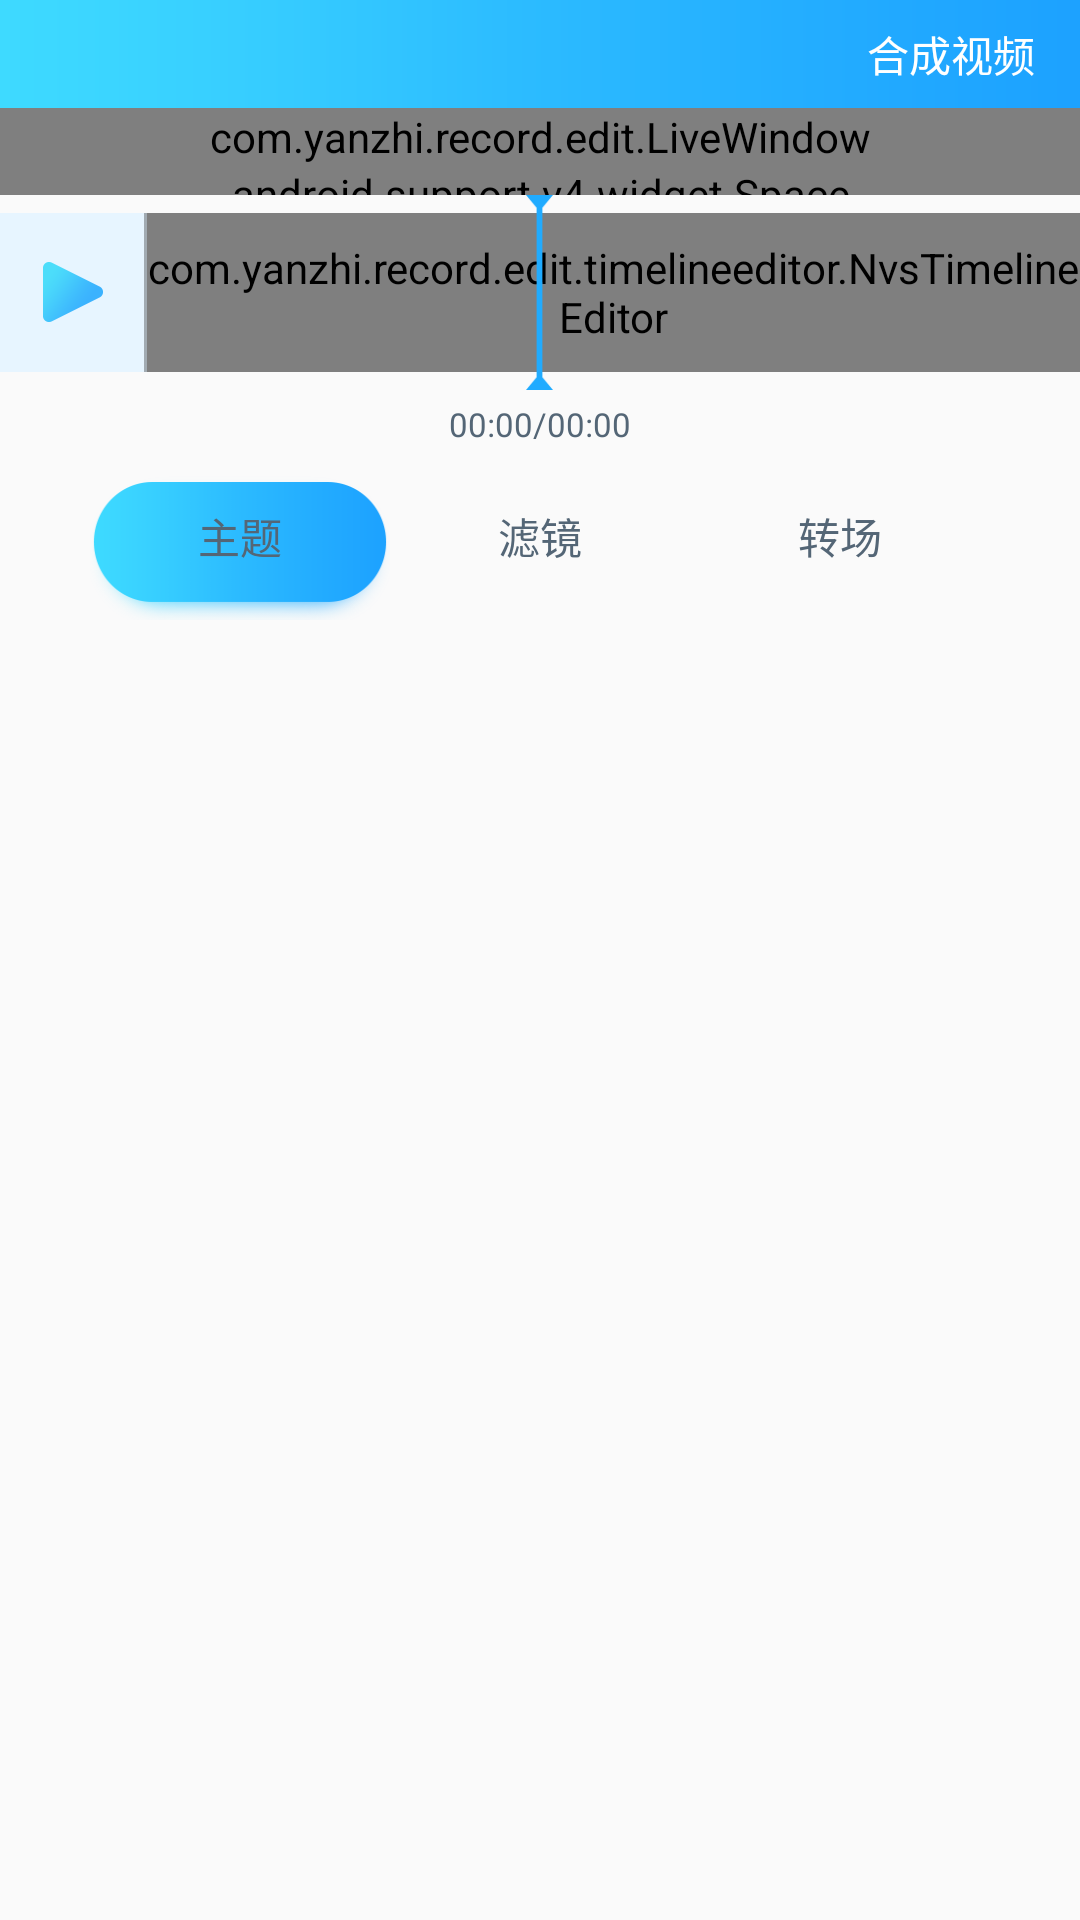

Named icons in this screenshot (1080x1920) and their bounding boxes, rect(x1, y1, x2, y2):
play: rect(43, 262, 103, 322)
